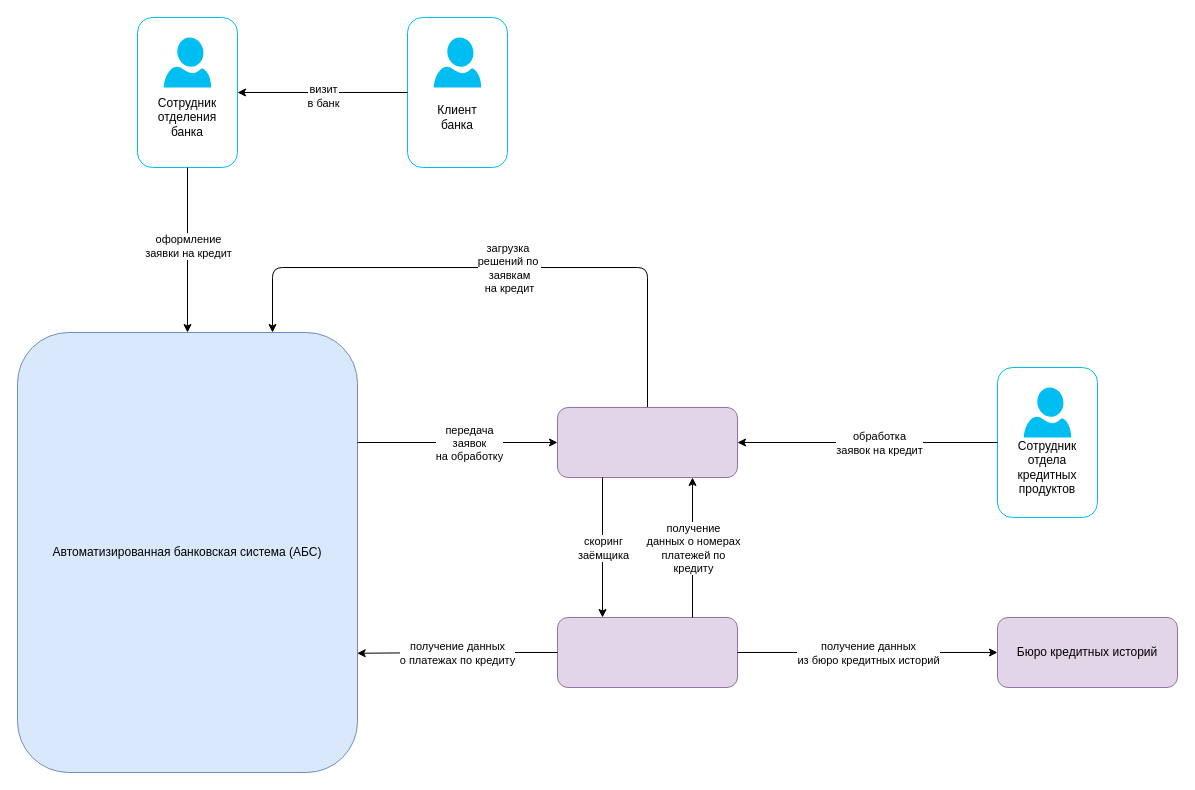
The diagram is 1195 pixels wide and 790 high, and some of its shapes have lost their labels. Here are the shapes that lost their labels. From the top down, the centre of each, then its label:
At (647,442): "Кредитный конвейер".
At (647,652): "Система кредитного скоринга".
